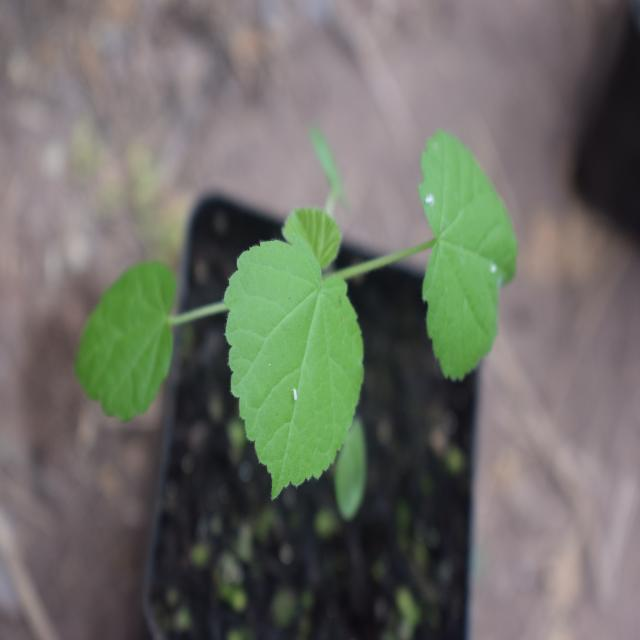abutilon theophrasti: (65, 131, 514, 477)
